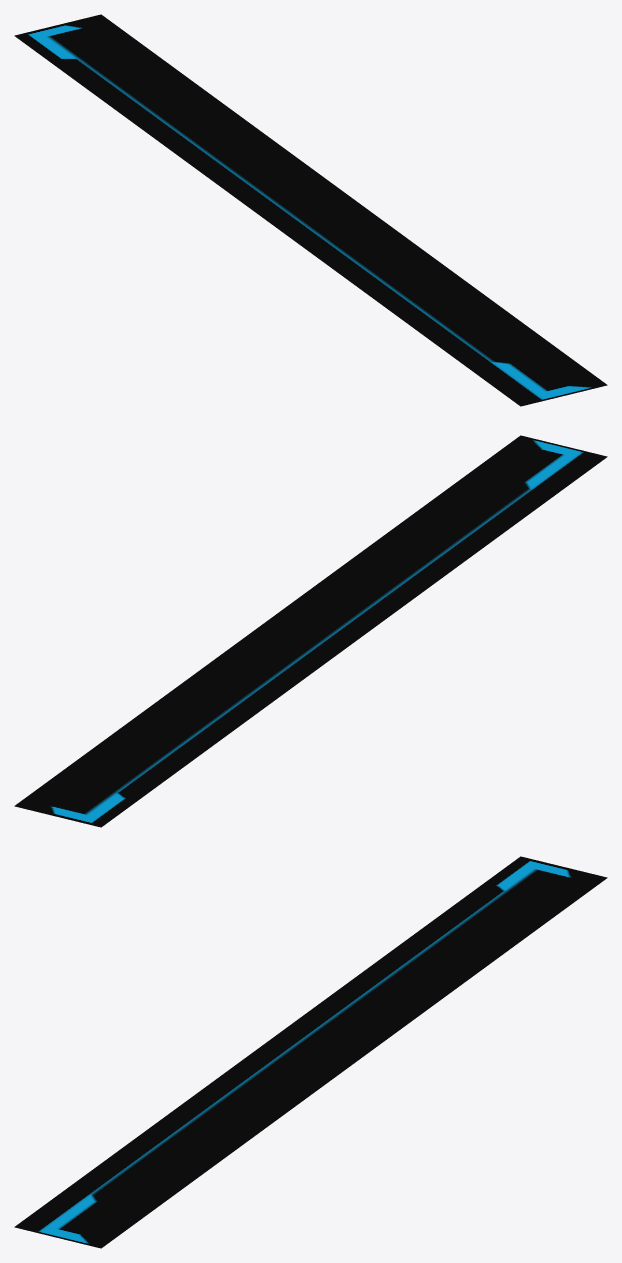
The model's file is SM_MarchRune_Hexagon_01.FBX.
The picture shows the model from 3 angles, top to bottom: view 1: azimuth 30°, elevation 25°; view 2: azimuth 150°, elevation 25°; view 3: azimuth 330°, elevation 25°; orthographic projection.
Parts seen in each view (by area): view 1: SM_MarchRune_Hexagon_01; view 2: SM_MarchRune_Hexagon_01; view 3: SM_MarchRune_Hexagon_01.
Boxes of the visible parts, x1,y1,x2,y2 form: SM_MarchRune_Hexagon_01: (14, 14, 607, 406); SM_MarchRune_Hexagon_01: (14, 435, 607, 827); SM_MarchRune_Hexagon_01: (14, 856, 607, 1248).
Bounding box in the file's own units: 35.44 × 2.13e-14 × 356.
1 material, 1 textured.
